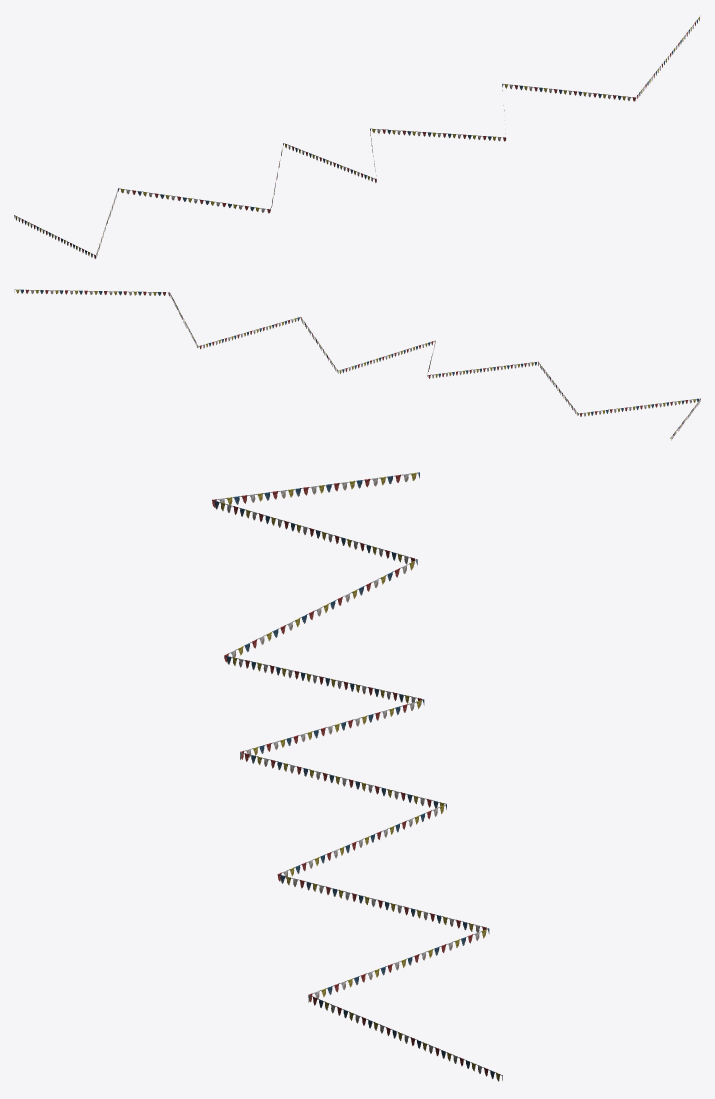
The model's file is beachbunt2.obj.
3 renders of one model, top to bottom at view 1: azimuth 30°, elevation 25°; view 2: azimuth 150°, elevation 25°; view 3: azimuth 270°, elevation 25°, orthographic. The views are drawn at different scales.
Parts seen in each view (by area): view 1: beachbunt2; view 2: beachbunt2; view 3: beachbunt2.
Boxes of the visible parts, x1=… form: beachbunt2: x1=14, y1=15, x2=700, y2=258; beachbunt2: x1=14, y1=289, x2=700, y2=440; beachbunt2: x1=212, y1=472, x2=502, y2=1081.
Size of the model in its own units: 82.87 by 2.6 by 16.41.
